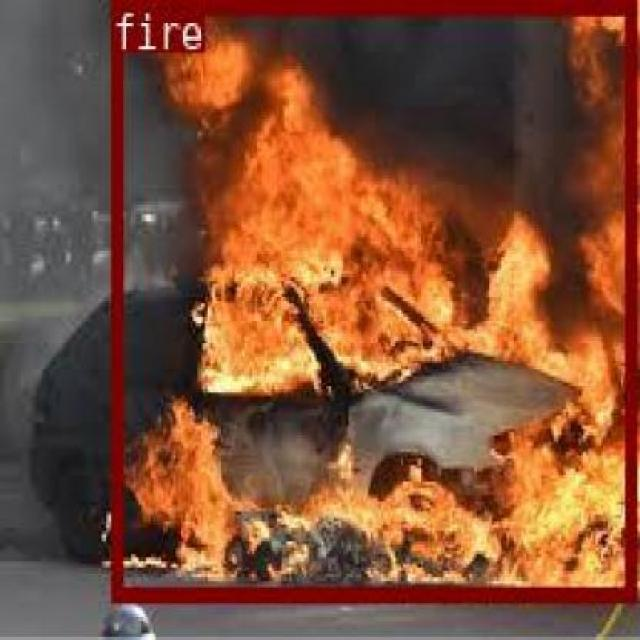Fire: (110, 0, 632, 600)
